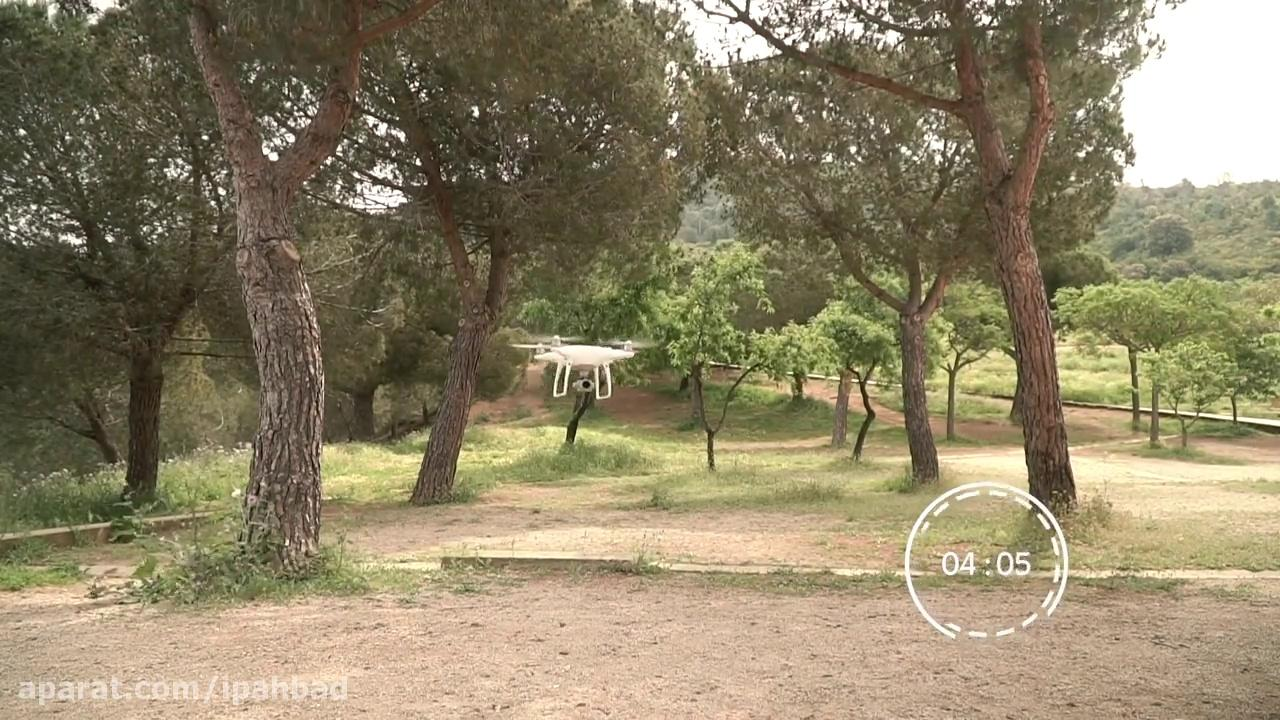drone: (502, 331, 664, 401)
